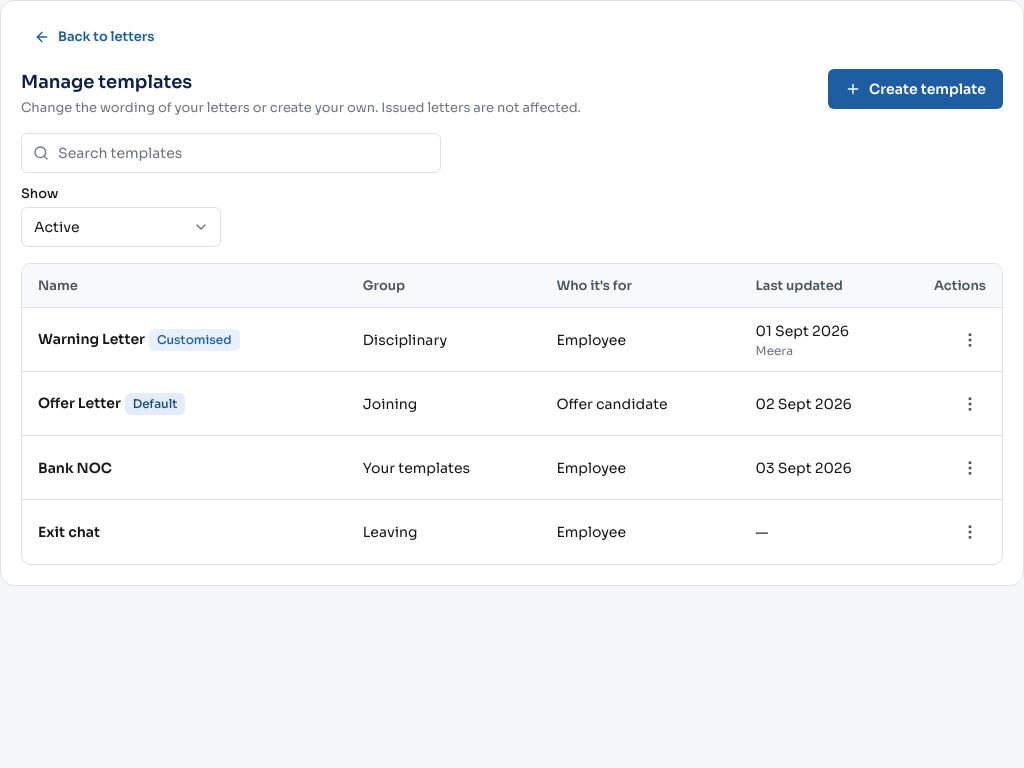
Test case: shows and searches the same Group labels as the home grid
Check: the text "Exit chat" is shown, box top-left (38, 522), bottom-right (100, 542)
Check: the text "Leaving" is shown, box top-left (347, 500), bottom-right (540, 564)
Step 1. Type "leaving" into the search field labelled "Search templates" → point(231, 153), box top-left (21, 133), bottom-right (441, 173)
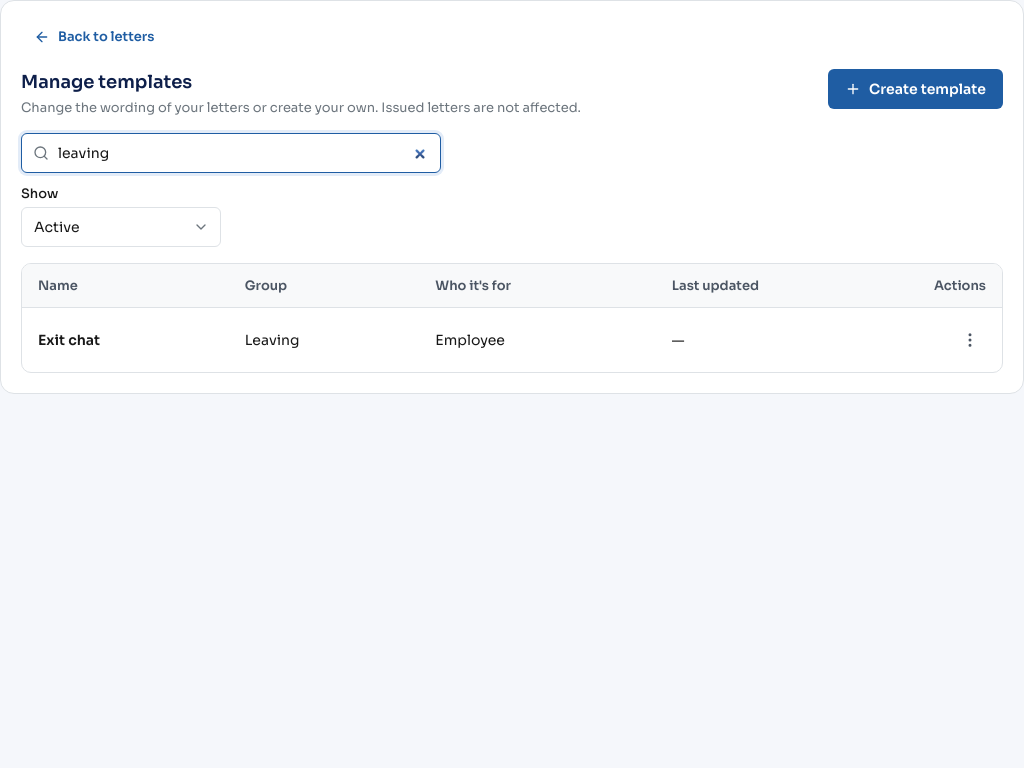
Check: the text "Exit chat" is shown, box top-left (38, 330), bottom-right (100, 350)
Check: the text "Warning Letter" is gone
